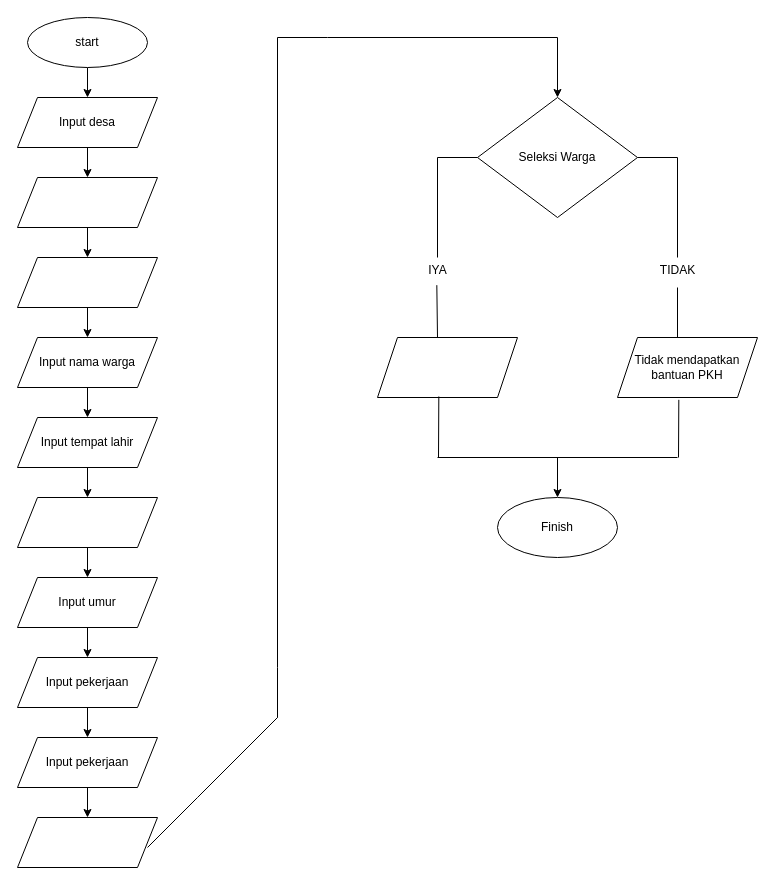
Some shapes in this 775 by 885 pixel diagram are drawn without their labels. Here are the shapes that lost their labels. From the top down, the centre of each, then its label:
(x=87, y=202): Input No.KK
(x=87, y=282): Input NIK
(x=447, y=367): Mendapatkan bantuan PKH
(x=87, y=522): Input agama
(x=87, y=842): Input gaji perbulan
